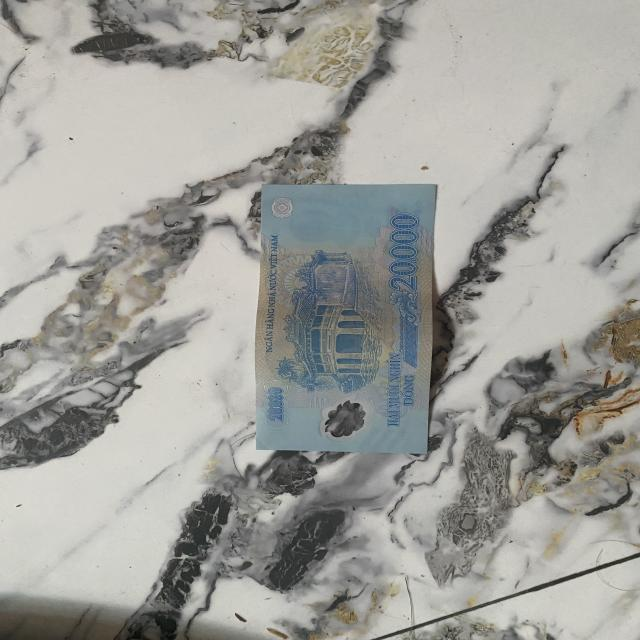20 000 VND: (246, 175, 450, 468)
